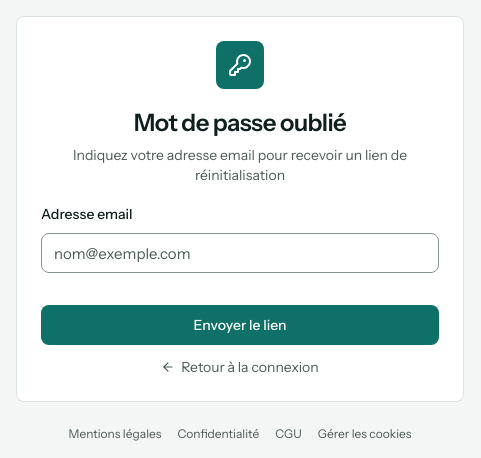
Test: ForgotPasswordPage › sends the email and shows a neutral confirmation
The image size is (481, 458).
In the field labelled "Adresse email": (240, 253) [41,233,439,273], type "alex@test.fr"
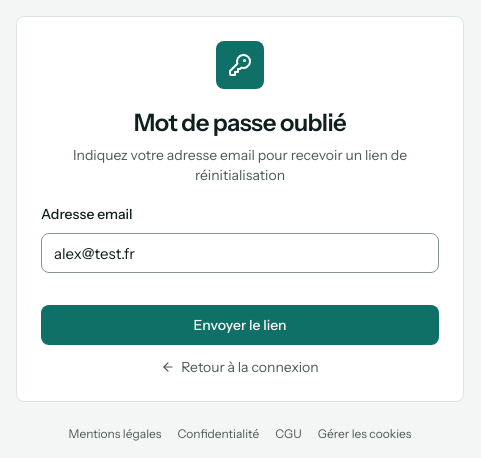
Click the button "Envoyer le lien": (240, 325) [41,305,439,345]
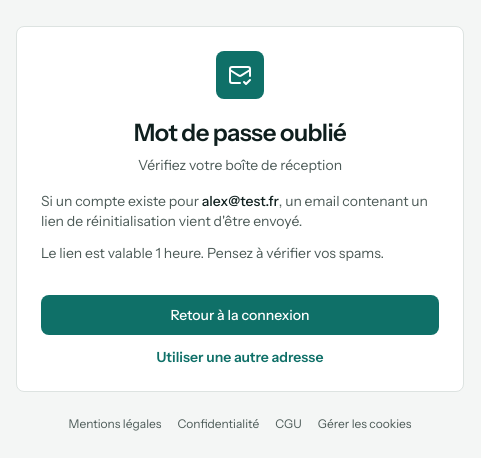
Now the text "Vérifiez votre boîte de réception" is shown, box [138,156,342,174]
Now the text "alex@test.fr" is shown, box [202,192,279,210]
